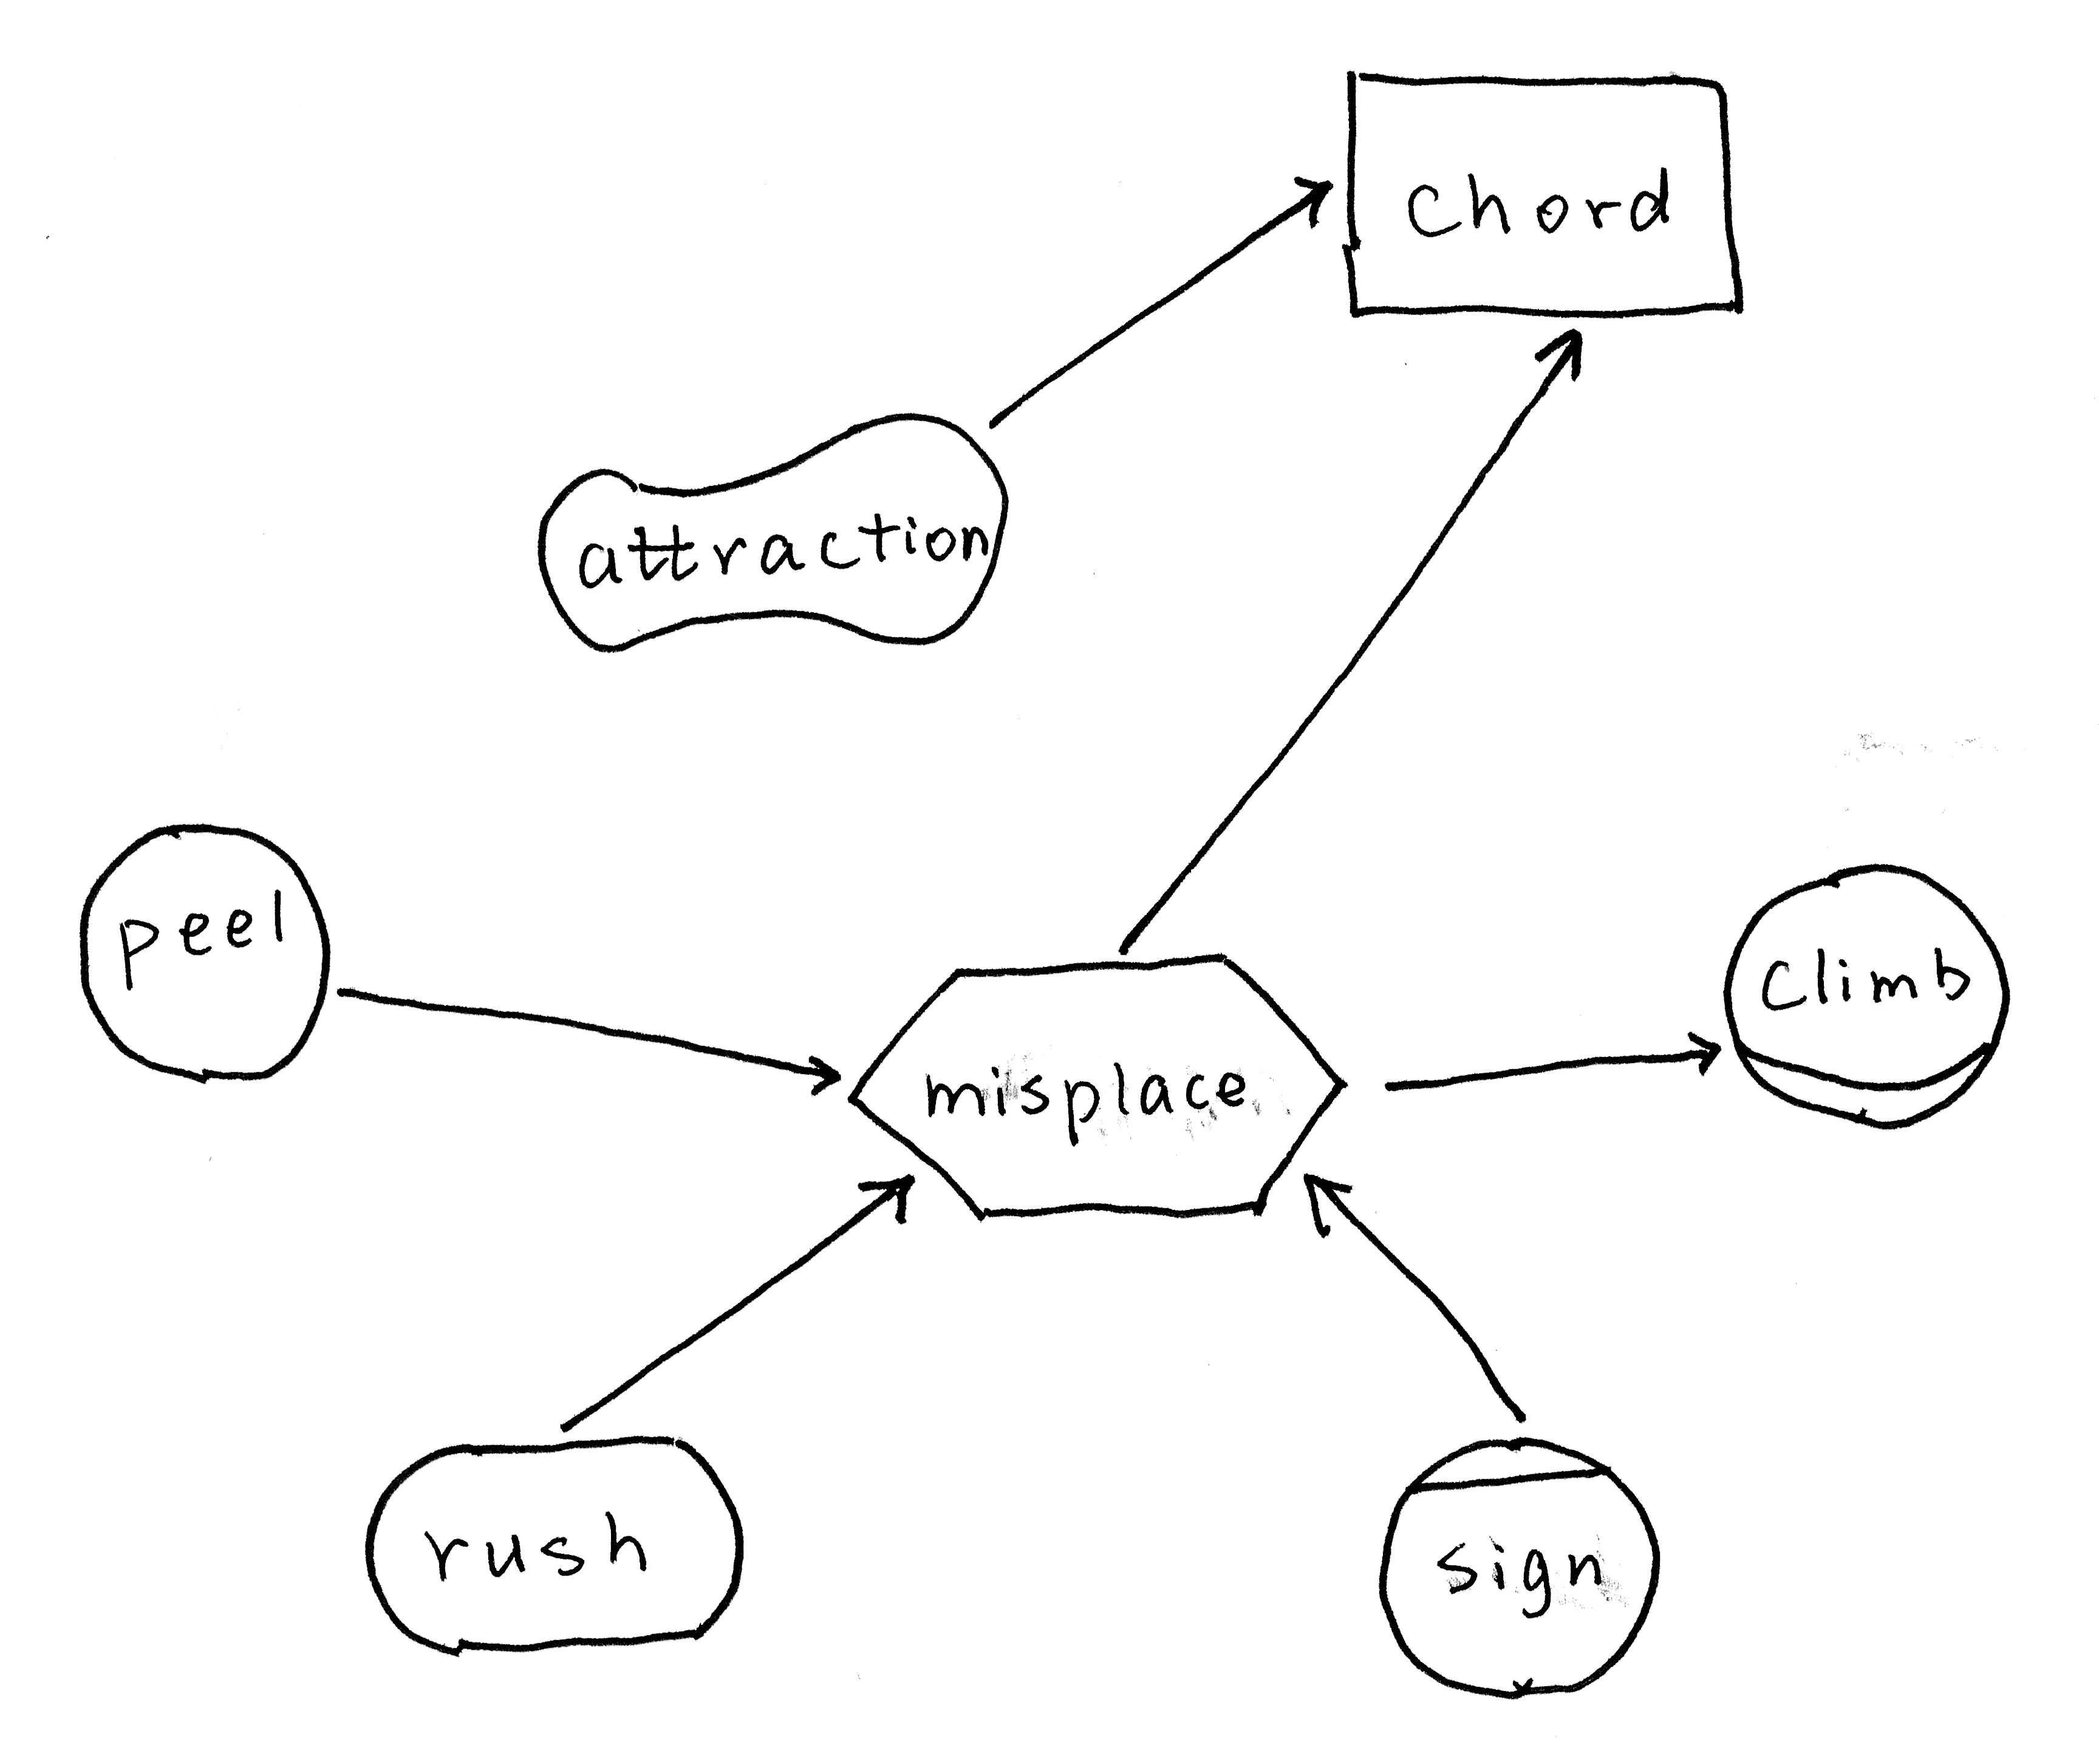actor: (54, 800, 360, 1109)
agent: (1354, 1419, 1677, 1706)
arrow: (840, 1151, 934, 1241), (1284, 1157, 1380, 1244), (1515, 306, 1606, 394), (1665, 1018, 1740, 1104), (792, 1027, 873, 1106), (1282, 157, 1345, 245)
goal: (343, 1421, 771, 1666)
quality: (520, 390, 1037, 675)
resource: (1322, 44, 1763, 343)
role: (1709, 849, 2027, 1146)
task: (822, 938, 1366, 1249)
